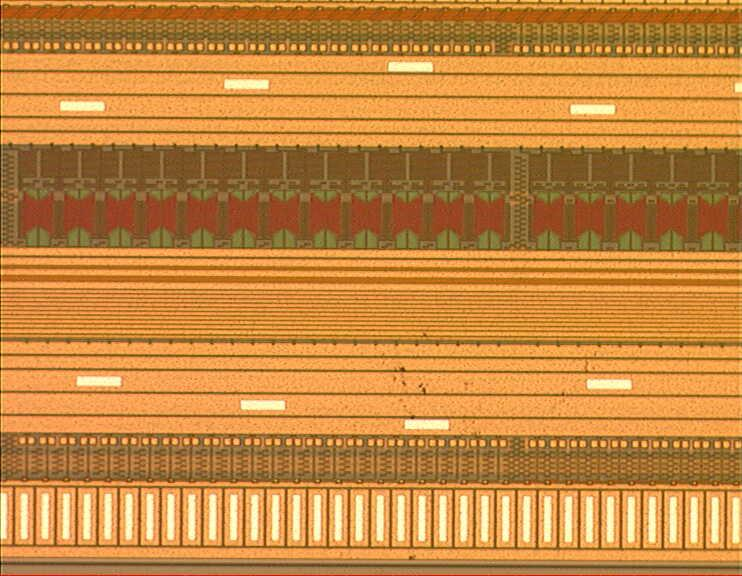PIQ PARTICLE: (382, 356, 600, 567)
